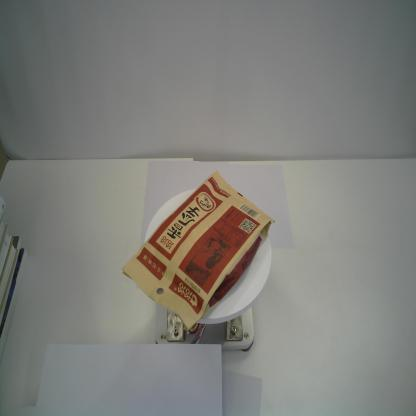Dried Food: (119, 169, 276, 333)
